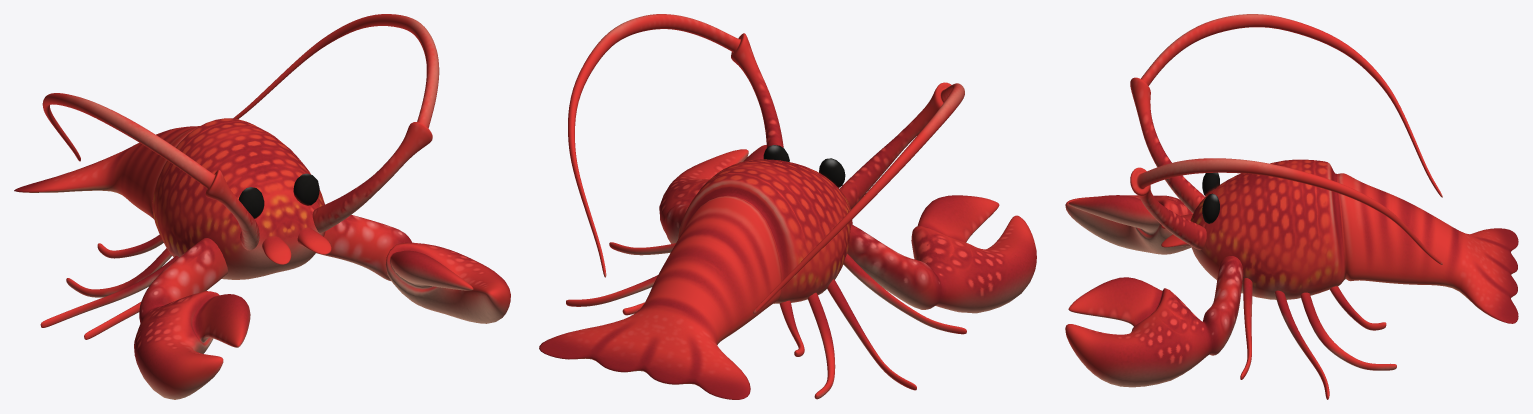
The model's file is 10029_Lobster_v1_iterations-2.obj.
The picture shows the model from 3 angles, left to right: view 1: azimuth 30°, elevation 25°; view 2: azimuth 150°, elevation 25°; view 3: azimuth 270°, elevation 25°; orthographic projection. The views are drawn at different scales.
Parts seen in each view (by area): view 1: Lobster; view 2: Lobster; view 3: Lobster.
Part boxes in pixels (x1=…): Lobster: x1=14, y1=14, x2=510, y2=399; Lobster: x1=539, y1=14, x2=1036, y2=399; Lobster: x1=1065, y1=14, x2=1518, y2=399.
Size of the model in its own units: 2.01 by 1.36 by 2.38.
Materials: 1 (1 with a texture image).
